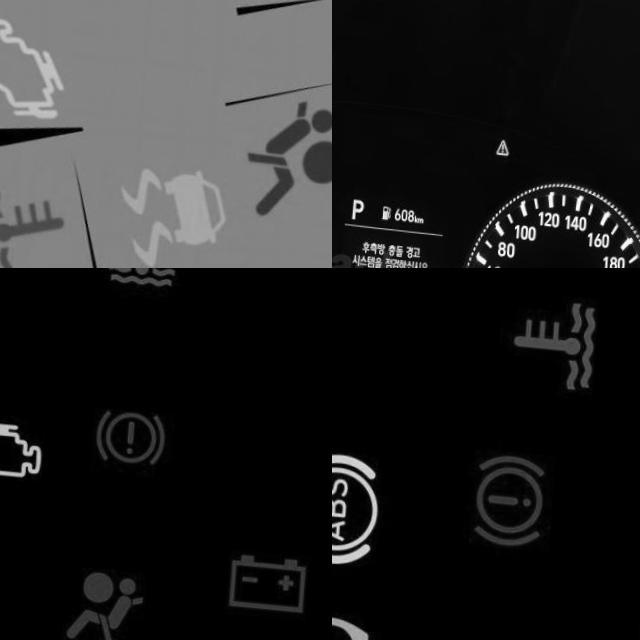Central Warning lamp: (498, 128, 513, 147)
High Engine Coolant Temperature: (96, 268, 192, 299)
